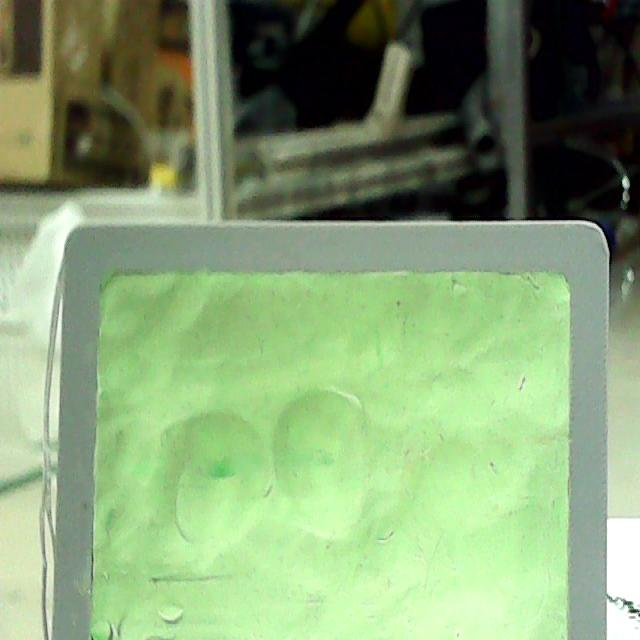block: (56, 222, 613, 640)
